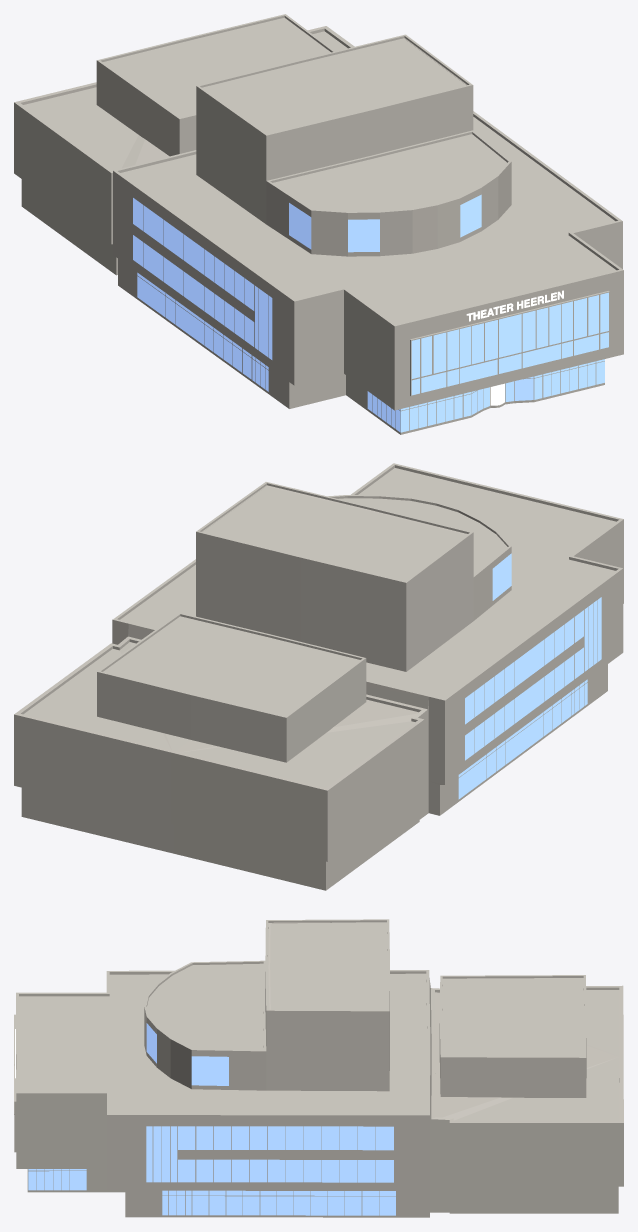
The model's file is theaterheerlenv2.glb.
3 views of the same model, one above another, from view 1: azimuth 30°, elevation 25°; view 2: azimuth 150°, elevation 25°; view 3: azimuth 270°, elevation 25° (orthographic). The views are drawn at different scales.
Visible parts, largest first — view 1: Areas:building.002; view 2: Areas:building.002; view 3: Areas:building.002.
Part boxes in pixels (x1,y1,x2,y2): Areas:building.002: (14, 14, 623, 434); Areas:building.002: (14, 463, 623, 890); Areas:building.002: (14, 919, 623, 1217).
Size of the model in its own units: 111 by 64.49 by 196.
